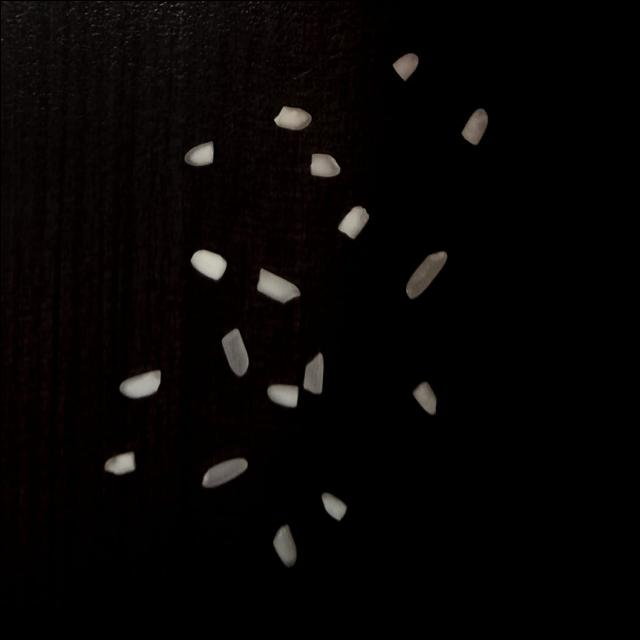Broken: (256, 267, 300, 302), (220, 328, 248, 376), (118, 370, 160, 398), (190, 249, 226, 280), (337, 205, 368, 238), (272, 524, 296, 566), (461, 107, 486, 144), (272, 105, 310, 129), (302, 352, 322, 392), (412, 381, 436, 413), (320, 492, 346, 520), (104, 450, 134, 474), (183, 140, 213, 164), (392, 52, 417, 80), (310, 152, 340, 175), (266, 384, 297, 406)
Full: (406, 250, 446, 298), (201, 457, 247, 487)
